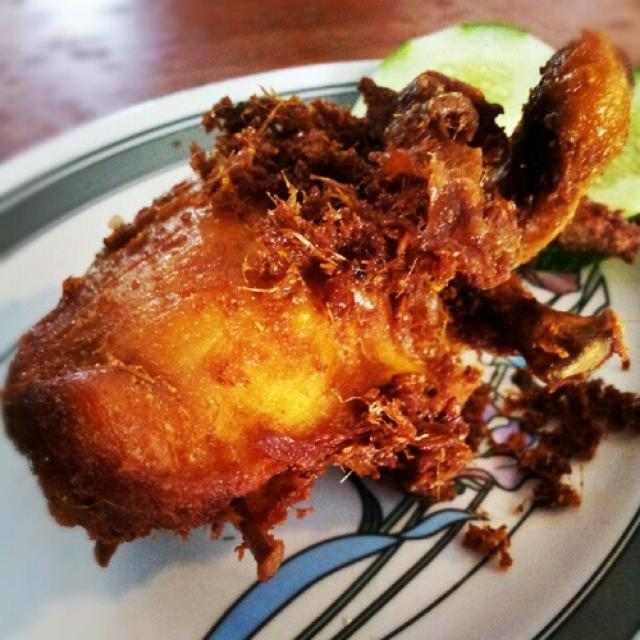鸡肉料理 含炸鸡: (9, 37, 621, 594)
